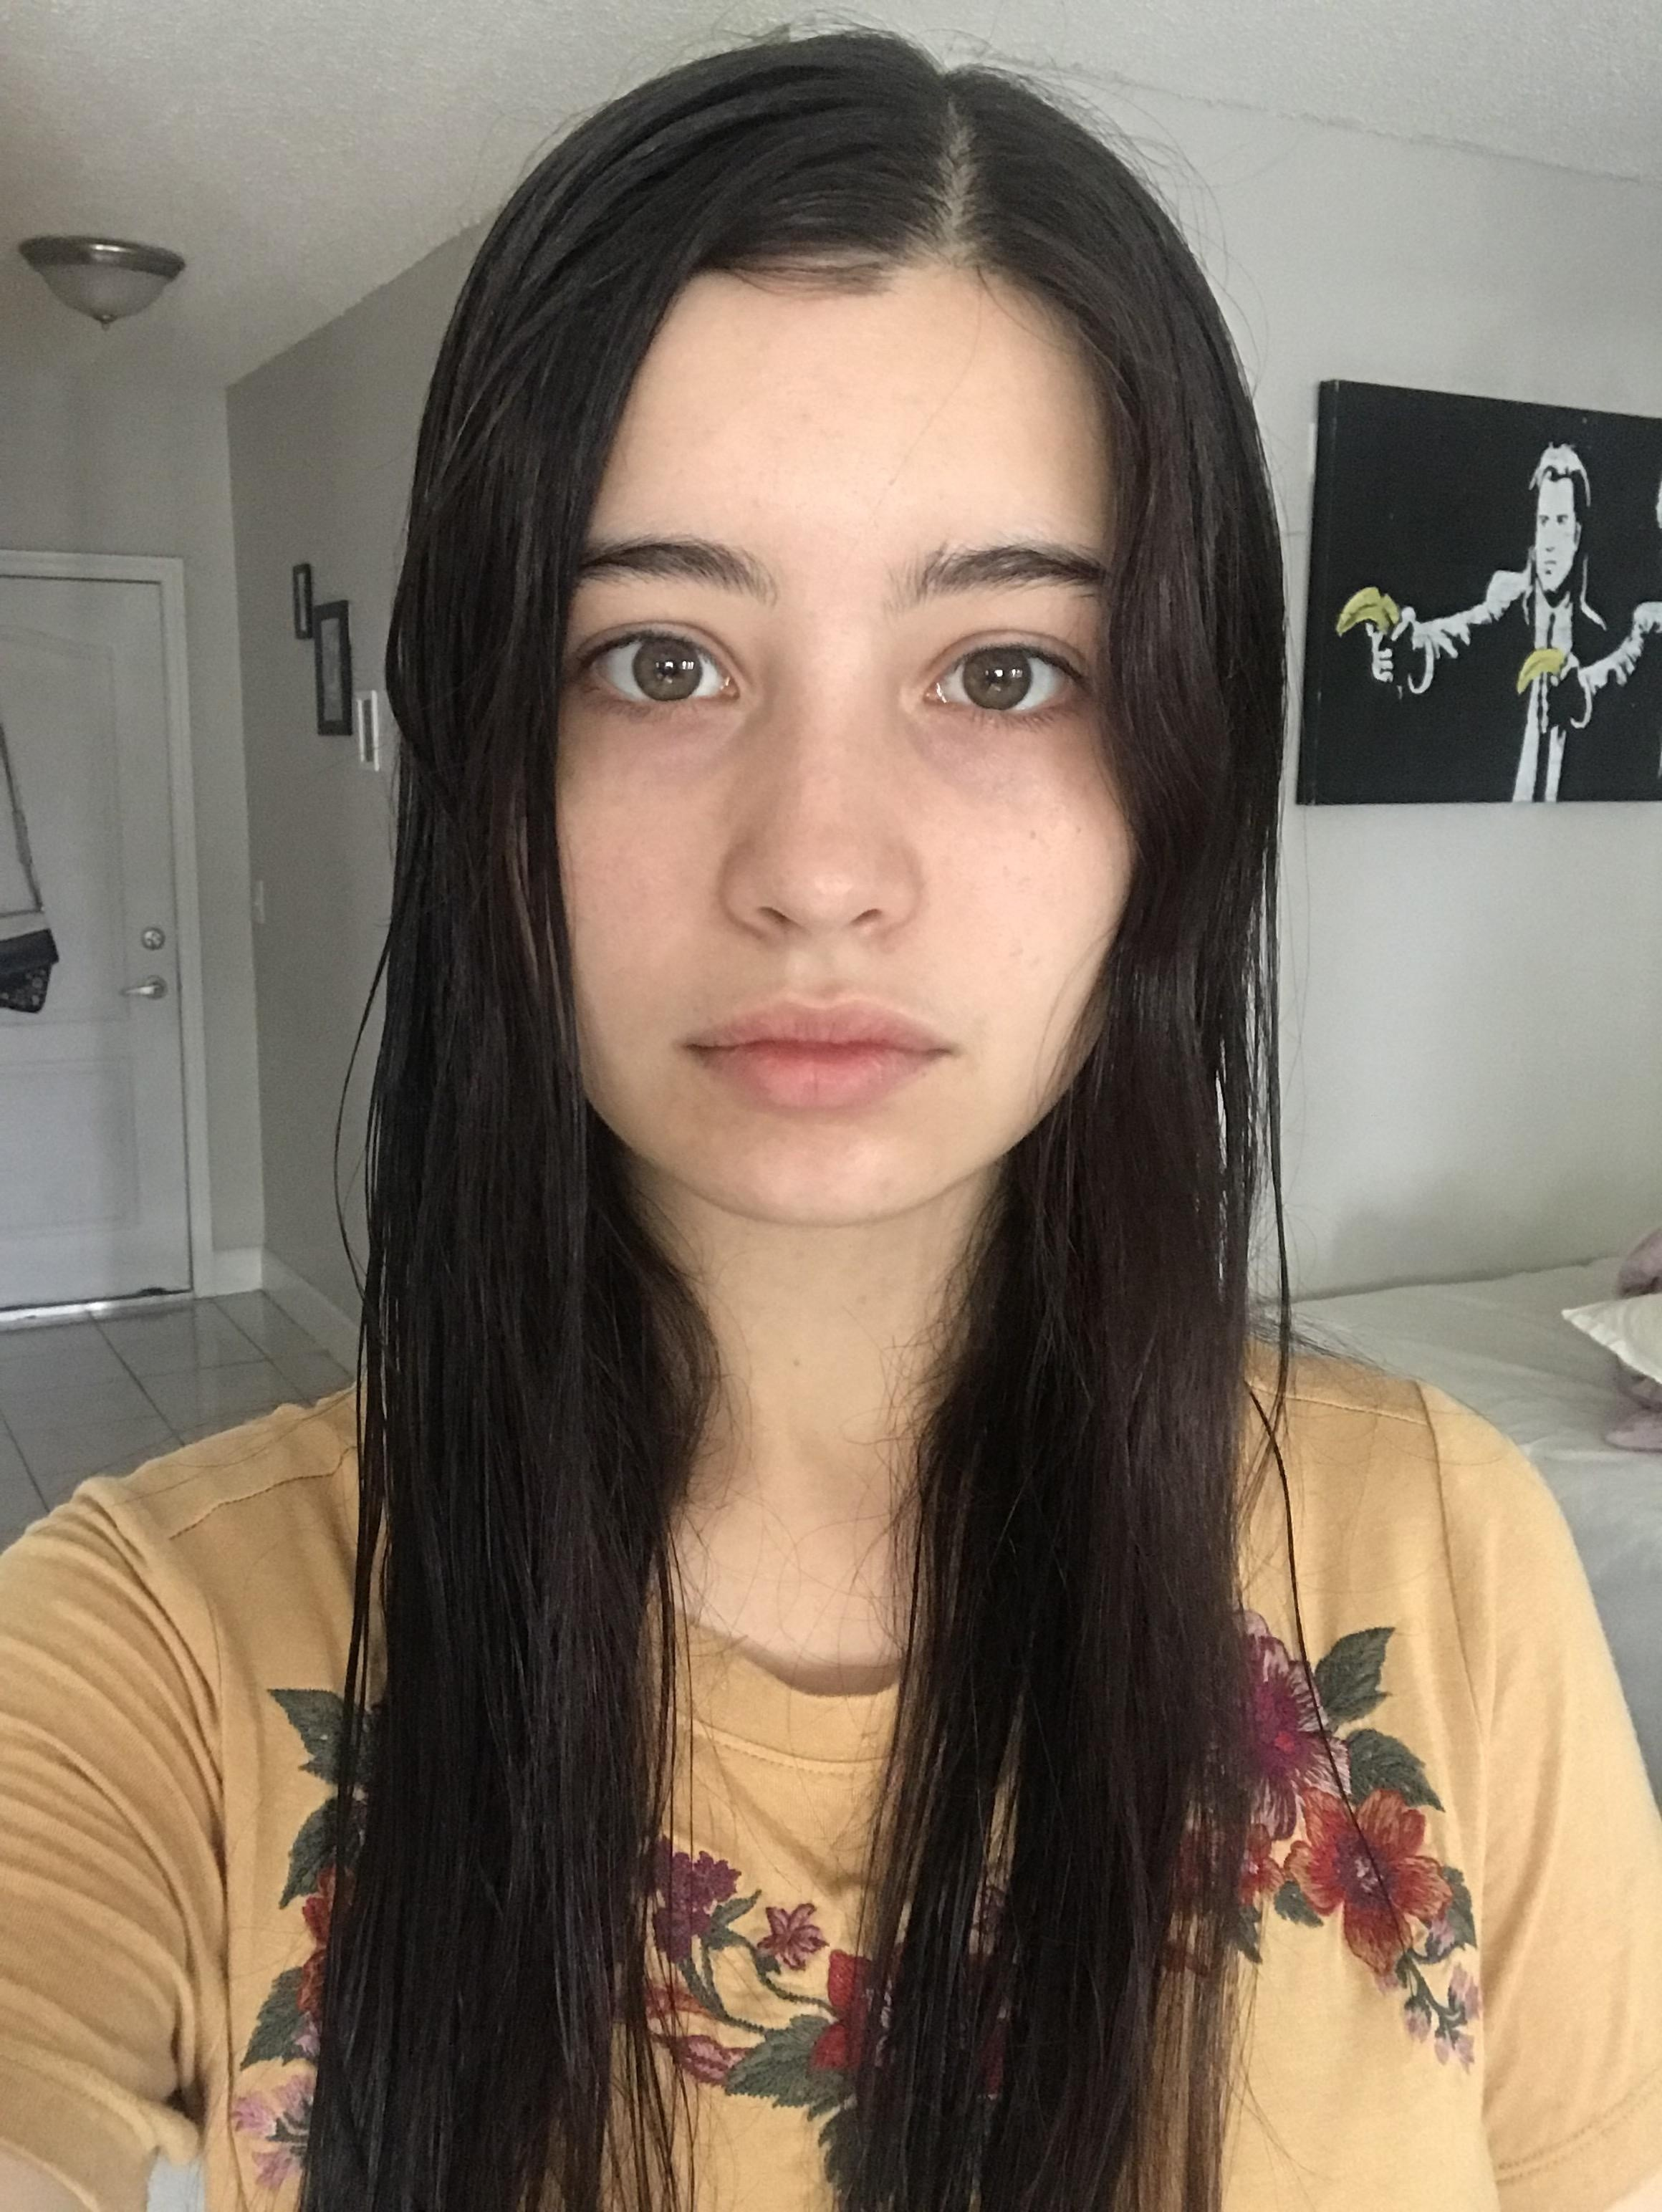face_no_mask: (487, 244, 1192, 1278)
